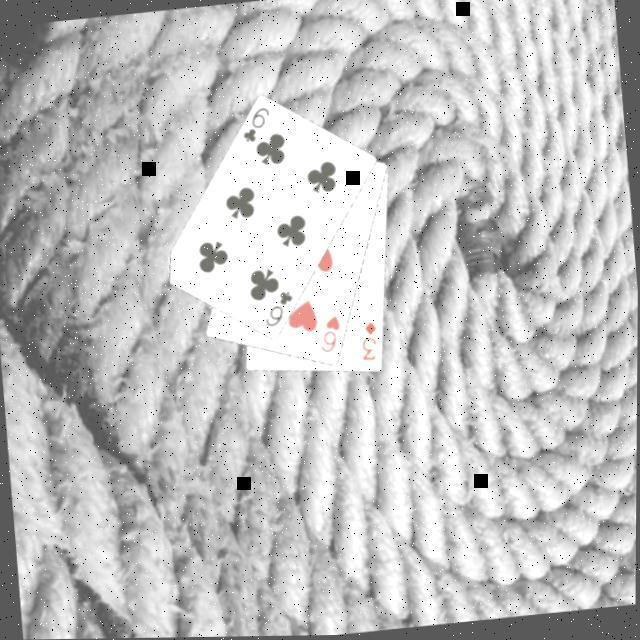3D: (357, 316, 383, 364)
6C: (260, 286, 298, 330), (238, 104, 276, 146)
6H: (316, 312, 346, 356)
